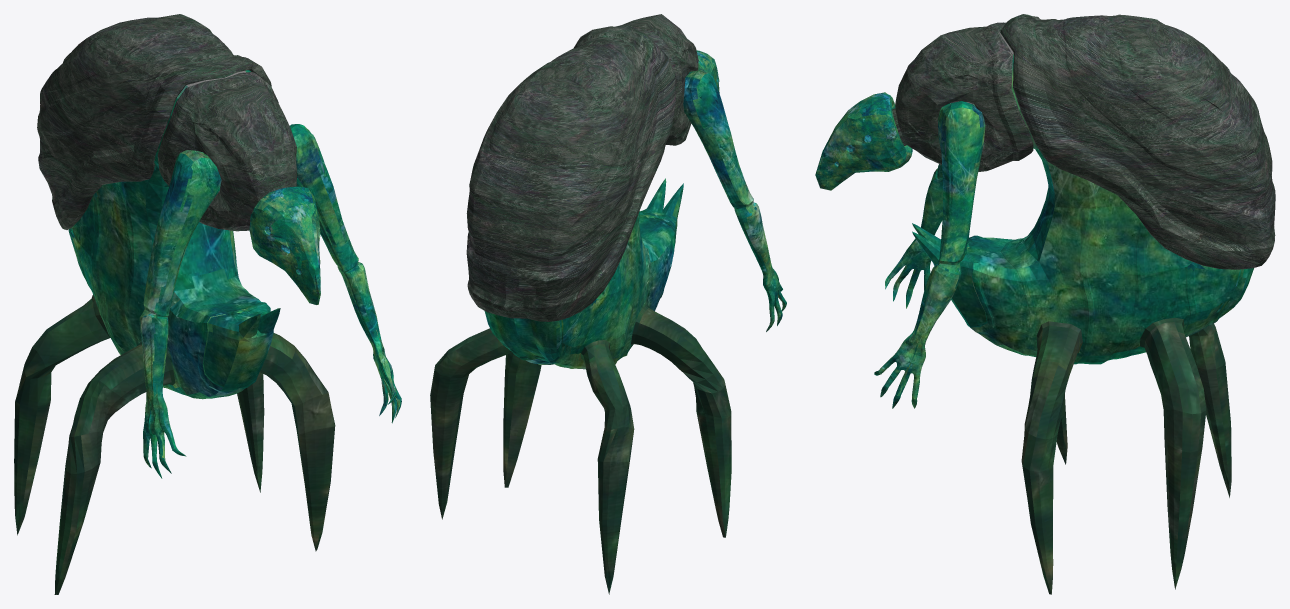
The model's file is Andar.0021.obj.
3 views of the same model, side by side, from view 1: azimuth 30°, elevation 25°; view 2: azimuth 150°, elevation 25°; view 3: azimuth 270°, elevation 25° (orthographic). The views are drawn at different scales.
Bounding box in the file's own units: 2.08 × 3.94 × 3.18.
5 materials, 4 textured.
